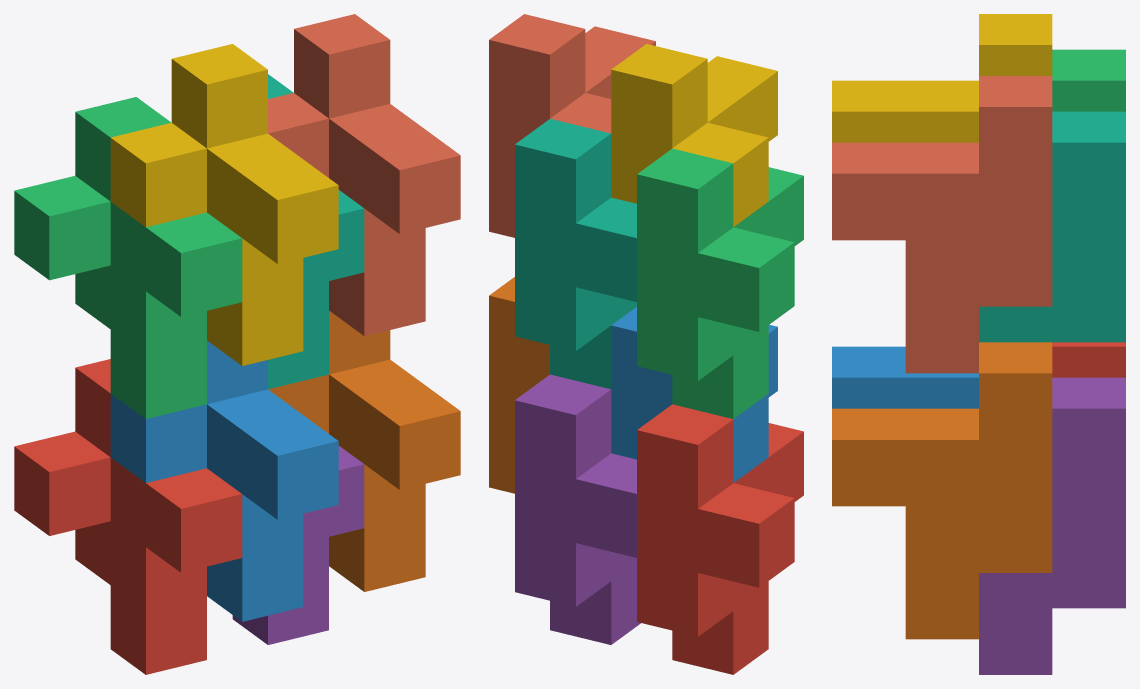
File: tiling.obj
3 renders of one model, left to right at view 1: azimuth 30°, elevation 25°; view 2: azimuth 150°, elevation 25°; view 3: azimuth 270°, elevation 25°, orthographic. The views are drawn at different scales.
Parts seen in each view (by area): view 1: copy_1_domain_4, copy_1_domain_3, copy_1_domain_1, copy_1_domain_8, copy_1_domain_2, copy_1_domain_6, copy_1_domain_5, copy_1_domain_7; view 2: copy_1_domain_1, copy_1_domain_3, copy_1_domain_5, copy_1_domain_7, copy_1_domain_4, copy_1_domain_8, copy_1_domain_2, copy_1_domain_6; view 3: copy_1_domain_6, copy_1_domain_8, copy_1_domain_5, copy_1_domain_7, copy_1_domain_4, copy_1_domain_2, copy_1_domain_3, copy_1_domain_1.
Part boxes in pixels (left/top/right/bottom): copy_1_domain_4: left=110, top=44, right=338, bottom=365; copy_1_domain_3: left=14, top=97, right=242, bottom=418; copy_1_domain_1: left=14, top=359, right=242, bottom=674; copy_1_domain_8: left=268, top=14, right=460, bottom=336; copy_1_domain_2: left=110, top=340, right=338, bottom=621; copy_1_domain_6: left=268, top=310, right=460, bottom=591; copy_1_domain_5: left=232, top=446, right=364, bottom=644; copy_1_domain_7: left=268, top=74, right=364, bottom=389; copy_1_domain_1: left=637, top=404, right=803, bottom=674; copy_1_domain_3: left=637, top=148, right=803, bottom=418; copy_1_domain_5: left=515, top=374, right=640, bottom=644; copy_1_domain_7: left=515, top=118, right=636, bottom=389; copy_1_domain_4: left=611, top=44, right=777, bottom=226; copy_1_domain_8: left=489, top=14, right=655, bottom=237; copy_1_domain_2: left=611, top=307, right=777, bottom=482; copy_1_domain_6: left=489, top=277, right=549, bottom=493; copy_1_domain_6: left=832, top=342, right=1052, bottom=639; copy_1_domain_8: left=832, top=76, right=1052, bottom=373; copy_1_domain_5: left=979, top=377, right=1125, bottom=674; copy_1_domain_7: left=979, top=111, right=1125, bottom=342; copy_1_domain_4: left=832, top=14, right=1052, bottom=142; copy_1_domain_2: left=832, top=346, right=978, bottom=408; copy_1_domain_3: left=1052, top=49, right=1125, bottom=111; copy_1_domain_1: left=1052, top=342, right=1125, bottom=377.
Size of the model in its own units: 5 by 9 by 4.
